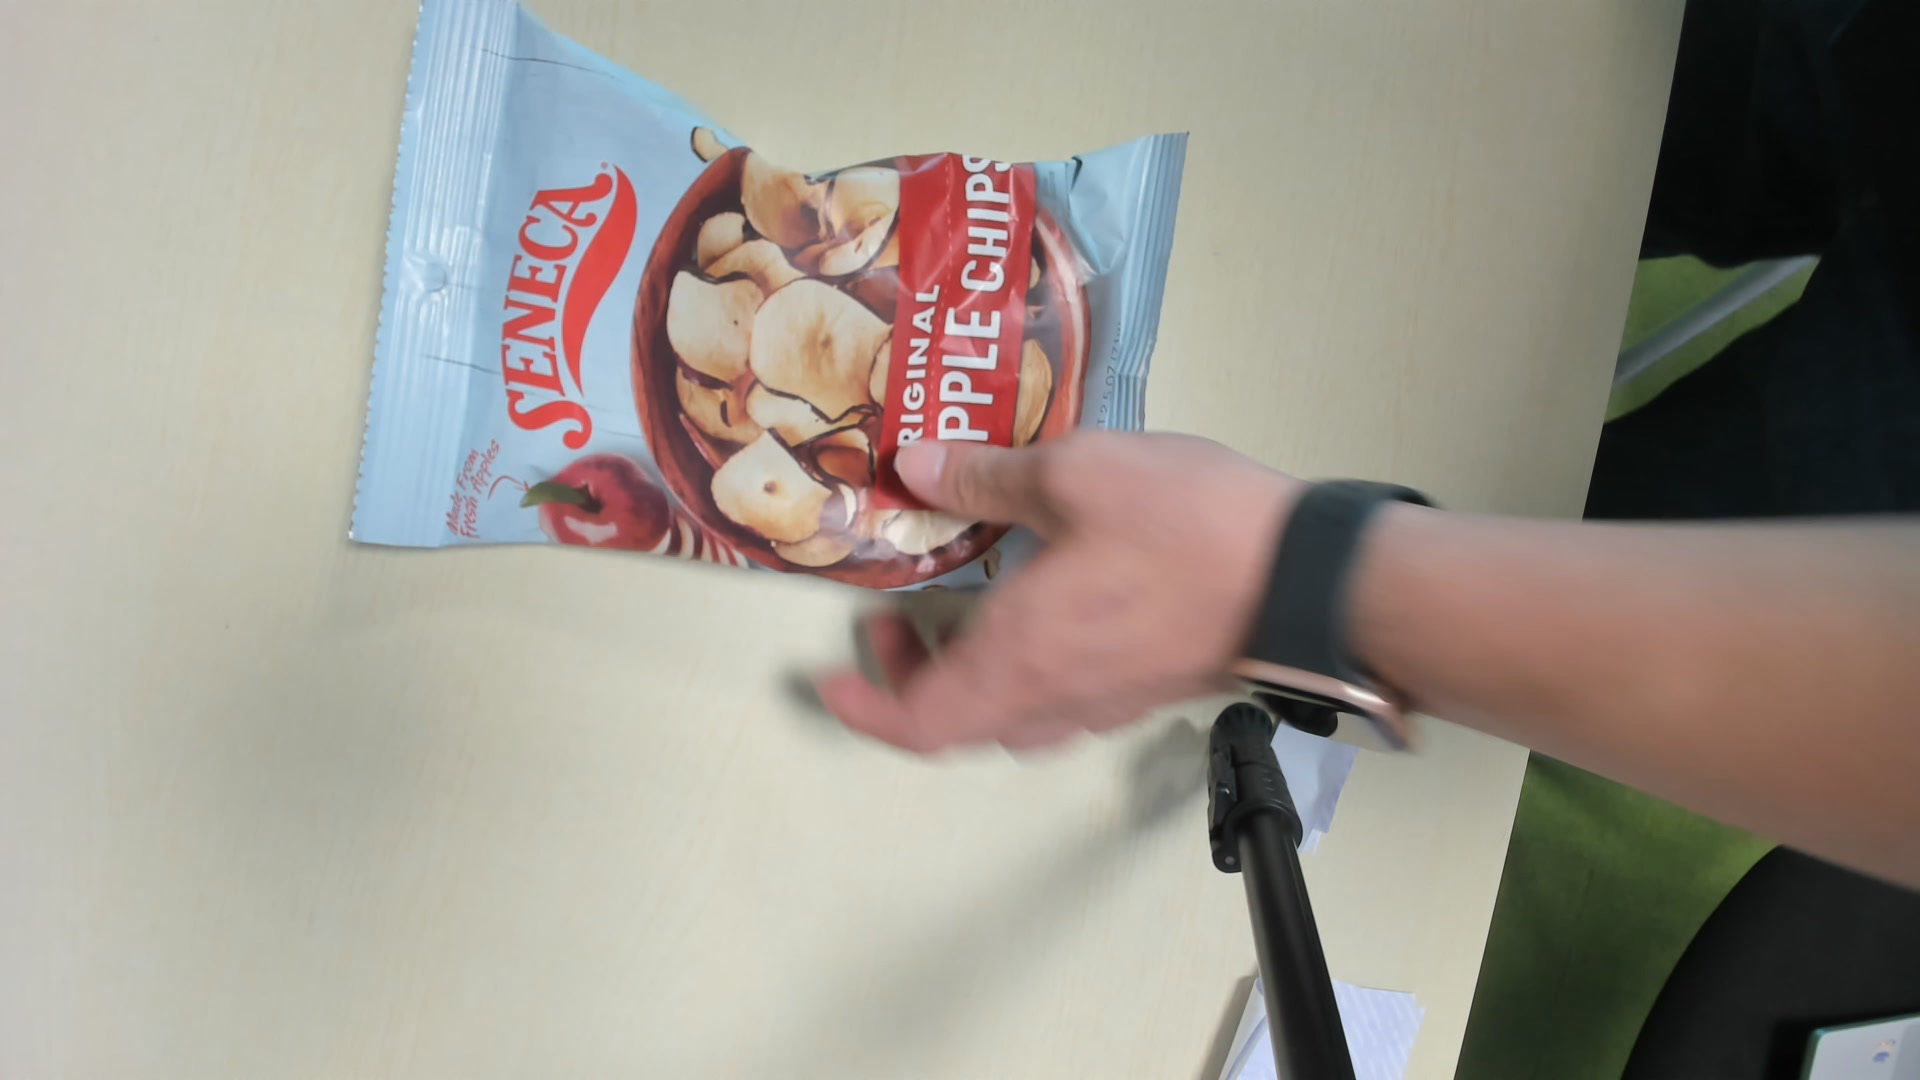PotatoChipsKeropok_0-99g_NonHalal_NonHealthy: (355, 20, 1183, 588)
